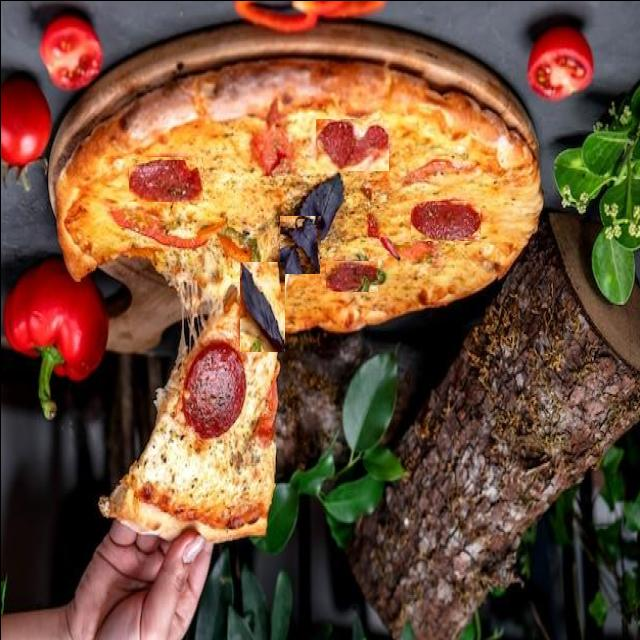basil: (239, 261, 284, 351), (296, 171, 344, 246), (279, 215, 319, 273)
pepperoni: (182, 339, 246, 438), (315, 118, 388, 170), (128, 156, 202, 201), (410, 200, 480, 240), (325, 260, 377, 291)
